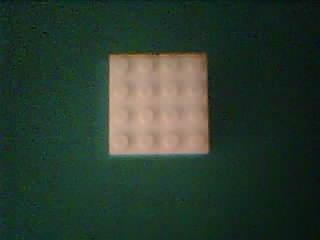lego: (108, 51, 209, 155)
